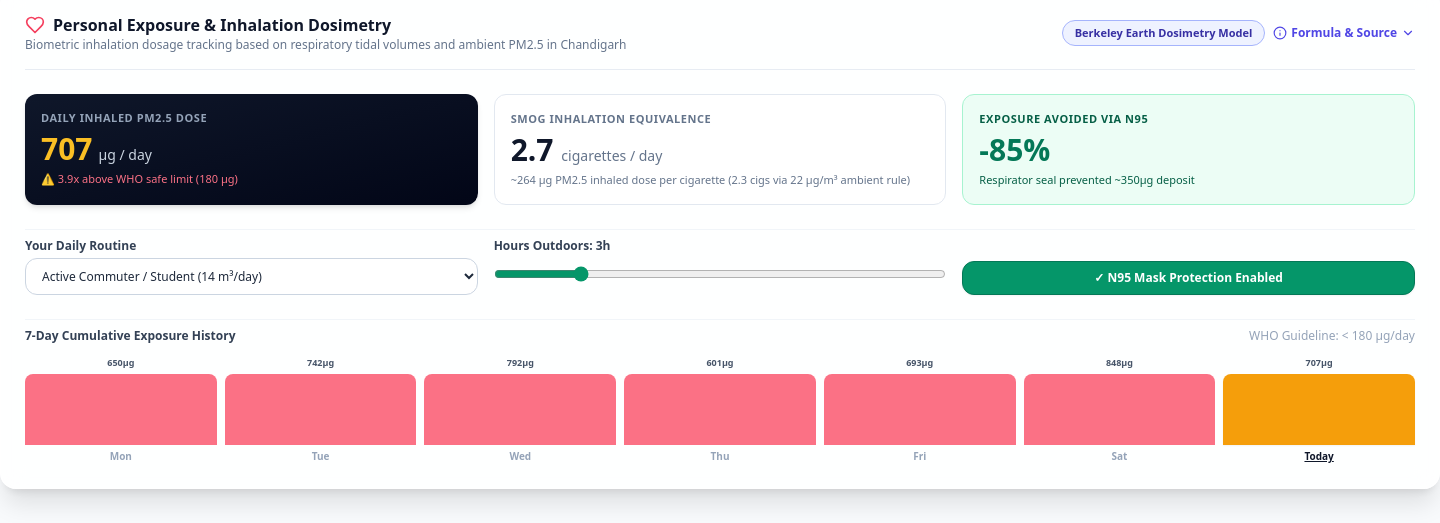
Test: ExposureHistoryTracker Component › toggles N95 mask protection impact
What coordinates should you click on to do the following:
click the button "✓ N95 Mask Protection Enabled"
I would click on:
 (1189, 278)
Its box is [962,261,1415,295].
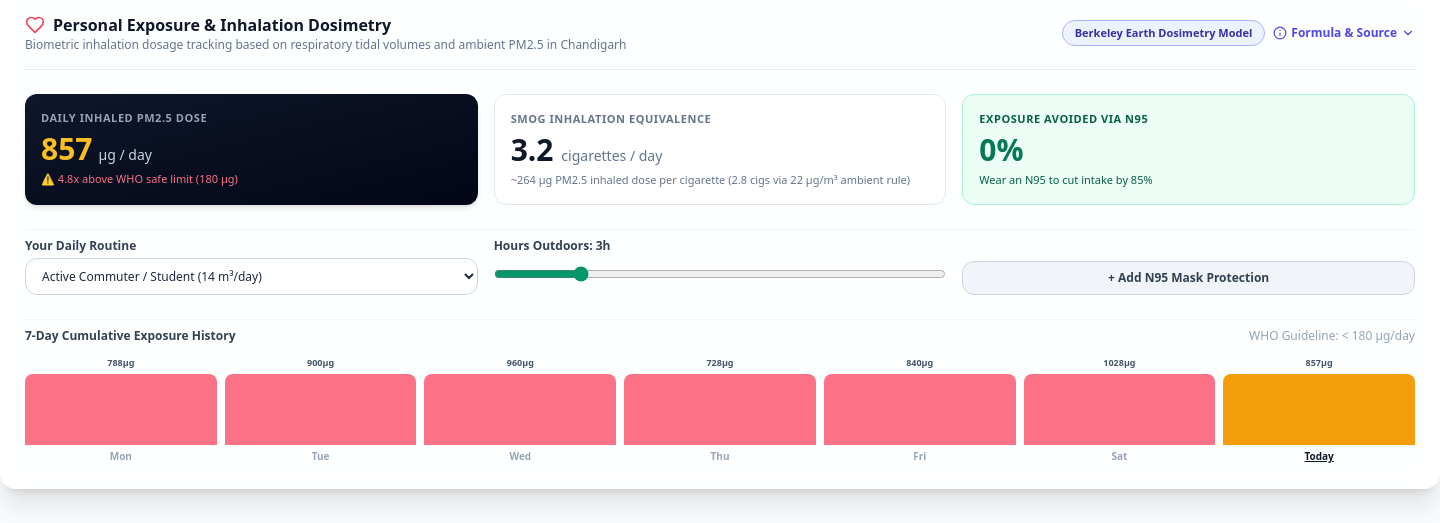
Expected: the text "0%" is shown, [979,128,1024,170]
